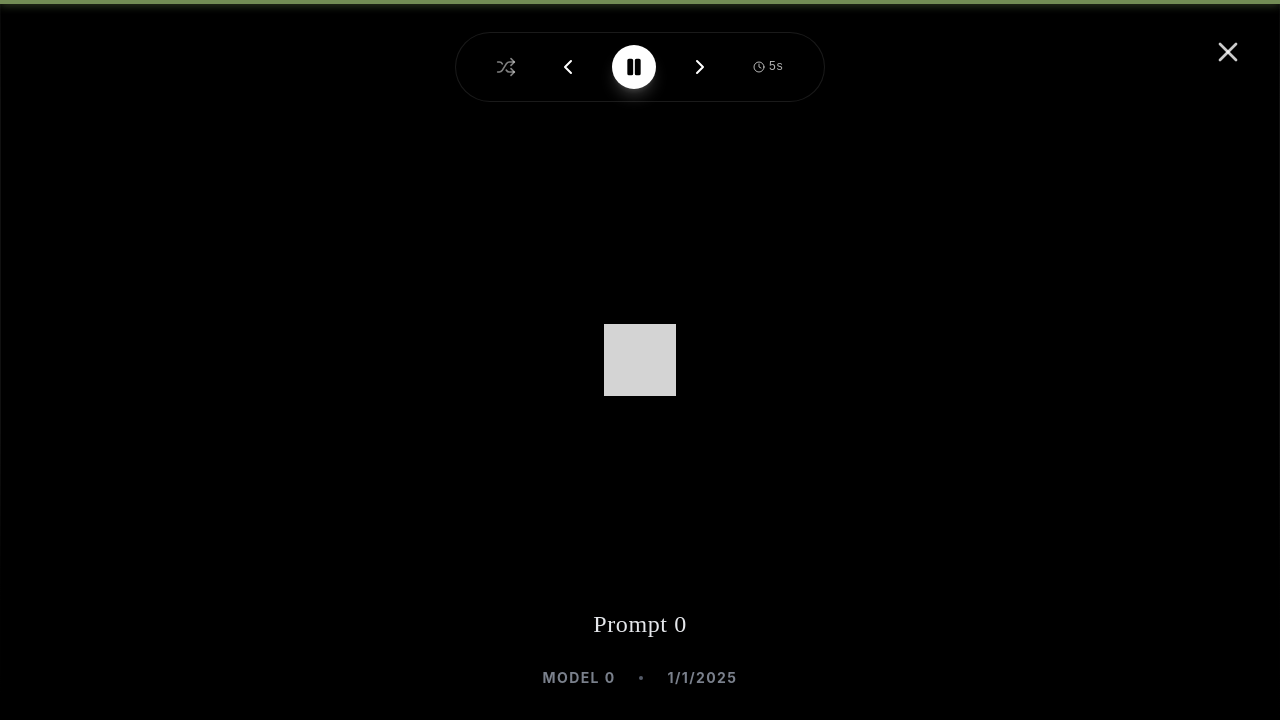
Test case: SlideshowModal › cycles through every duration and keeps control clicks from pausing playback
The width and height of the screenshot is (1280, 720).
What coordinates should you click on to do the following:
click the button titled "Toggle Duration"
I would click on:
 (768, 67)
Its box is top-left (744, 59), bottom-right (792, 75).
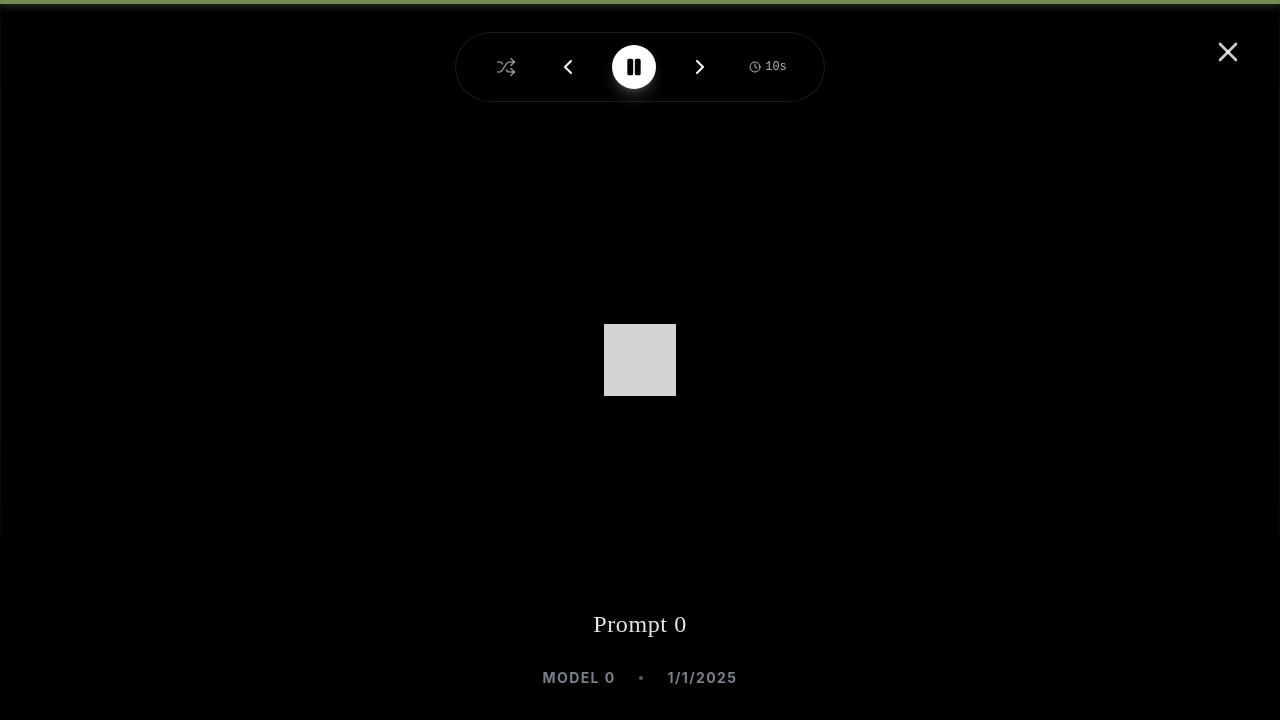
Check: the button titled "Toggle Duration" reads "10s"
What coordinates should you click on to do the following:
click the button titled "Toggle Duration"
I would click on:
 (768, 67)
Its box is top-left (744, 59), bottom-right (792, 75).
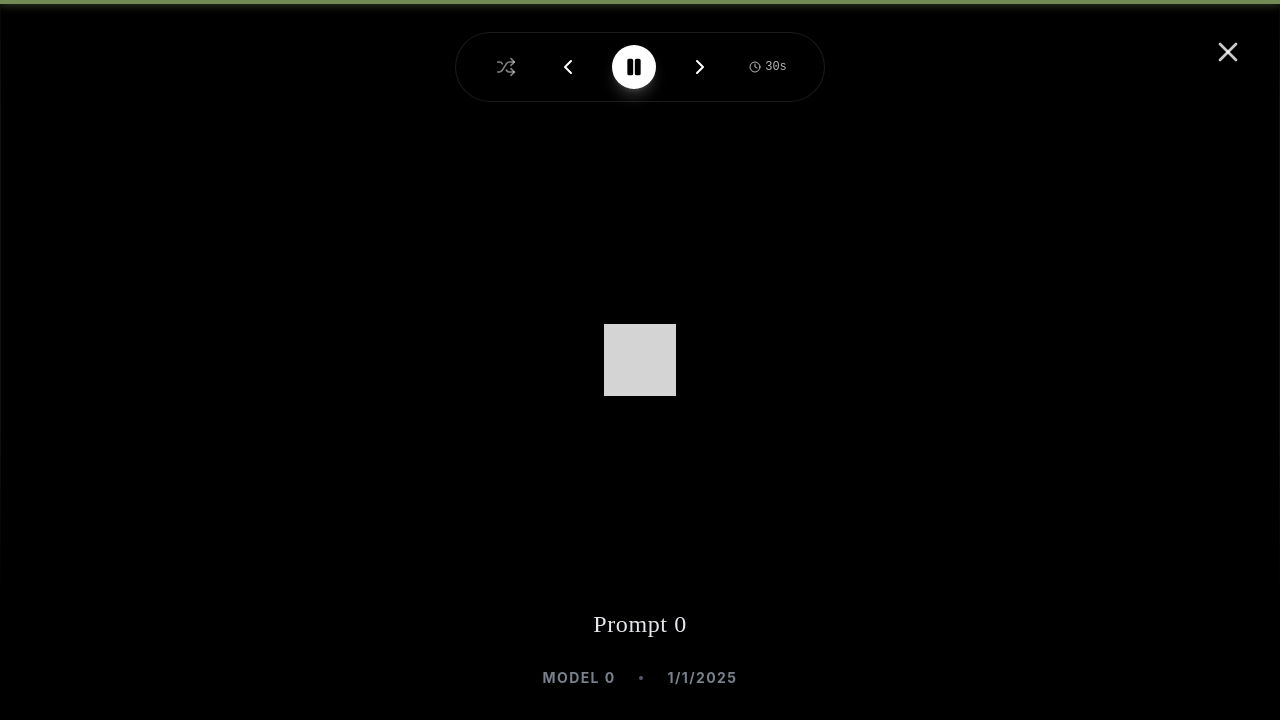
Check: the button titled "Toggle Duration" reads "30s"
What coordinates should you click on to do the following:
click the button titled "Toggle Duration"
I would click on:
 (768, 67)
Its box is top-left (744, 59), bottom-right (792, 75).
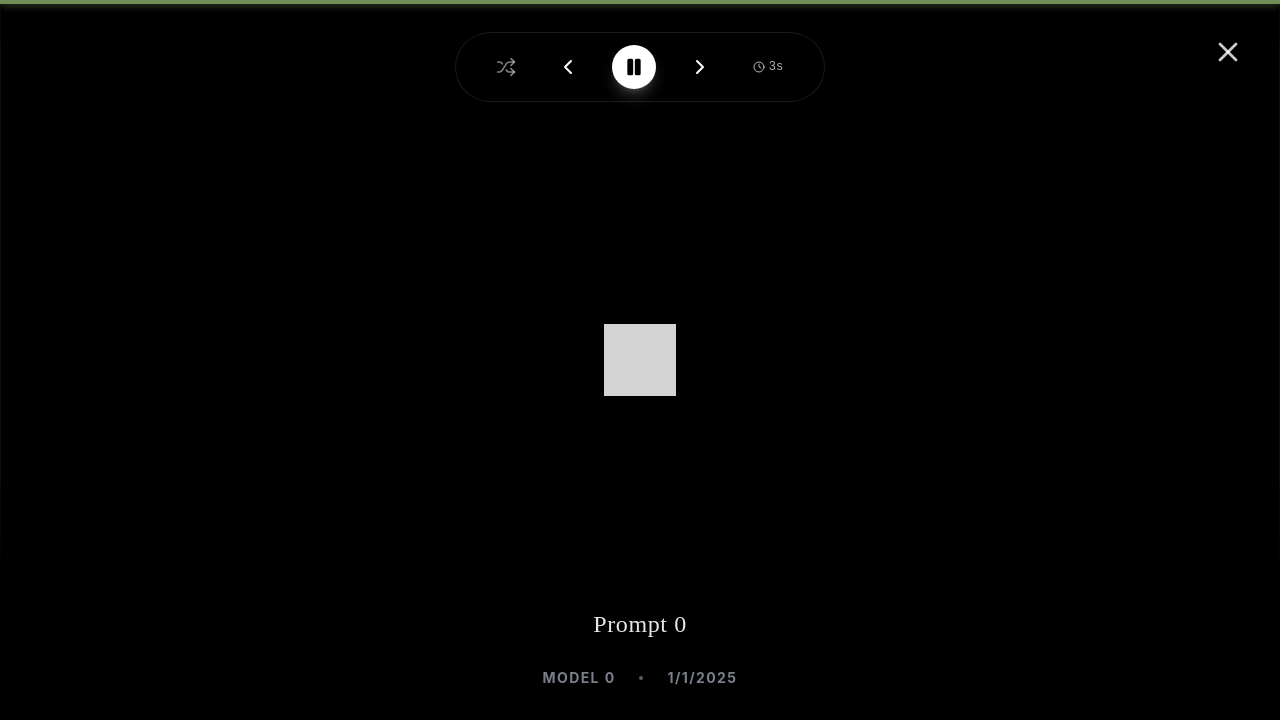
Check: the button titled "Toggle Duration" reads "3s"
What coordinates should you click on to do the following:
click the button titled "Toggle Duration"
I would click on:
 (768, 67)
Its box is top-left (744, 59), bottom-right (792, 75).
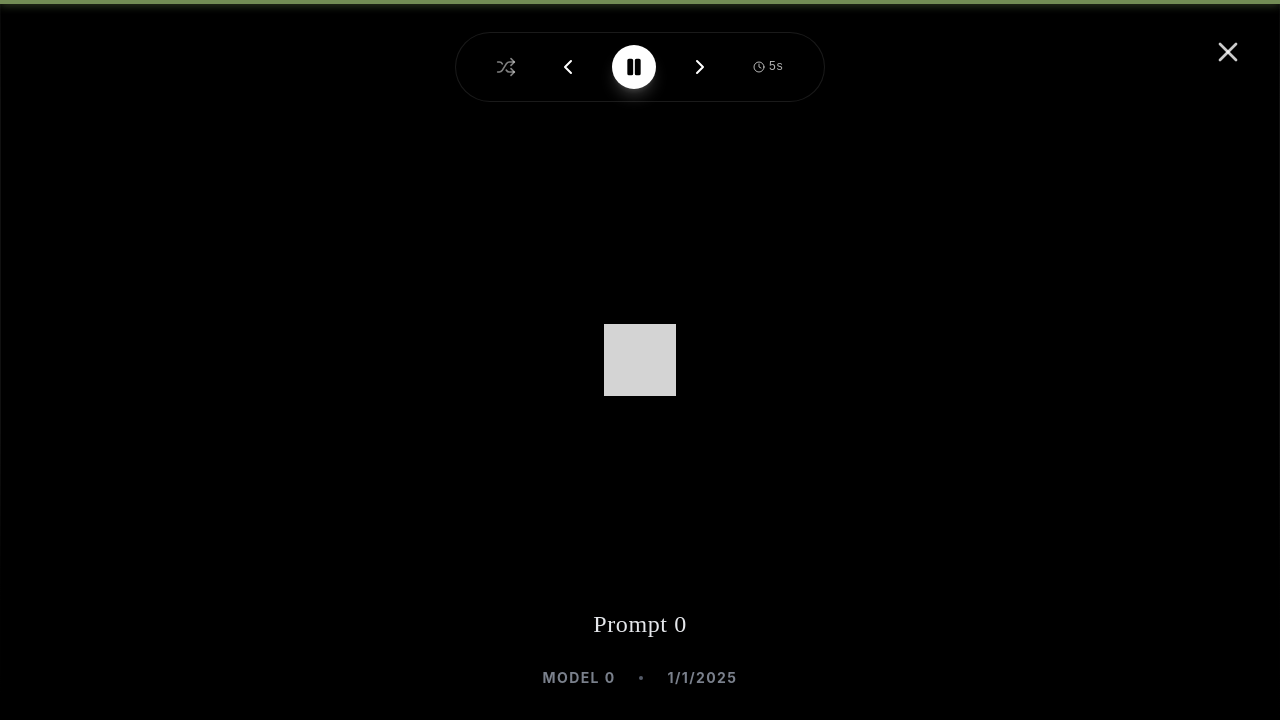
Check: the element with test id "progress-bar" is shown, box top-left (0, 0), bottom-right (1279, 4)
Check: the button titled "Toggle Duration" reads "5s", box top-left (744, 59), bottom-right (792, 75)
What coordinates should you click on to do the following:
click the button named "Pause Slideshow"
I would click on:
 (634, 67)
Its box is top-left (612, 45), bottom-right (656, 89).
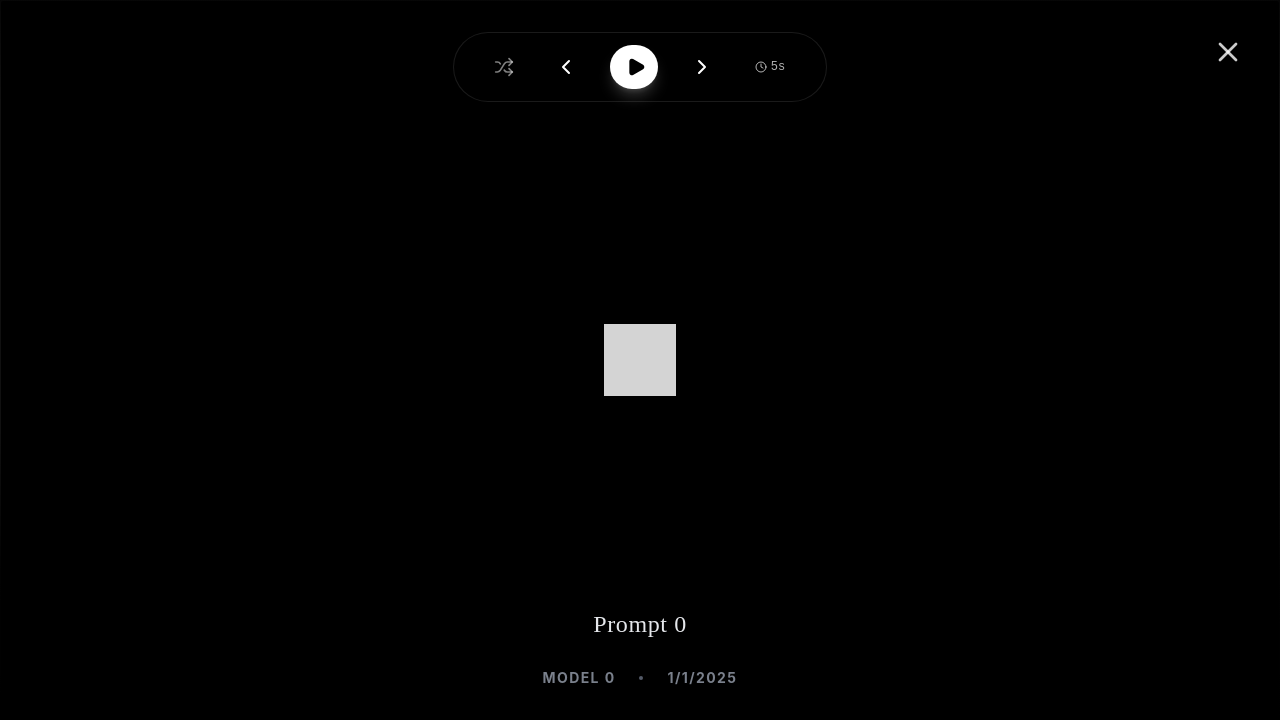
Check: the element with test id "progress-bar" is gone
What coordinates should you click on to do the following:
click the button named "Play Slideshow"
I would click on:
 (634, 67)
Its box is top-left (610, 45), bottom-right (658, 89).
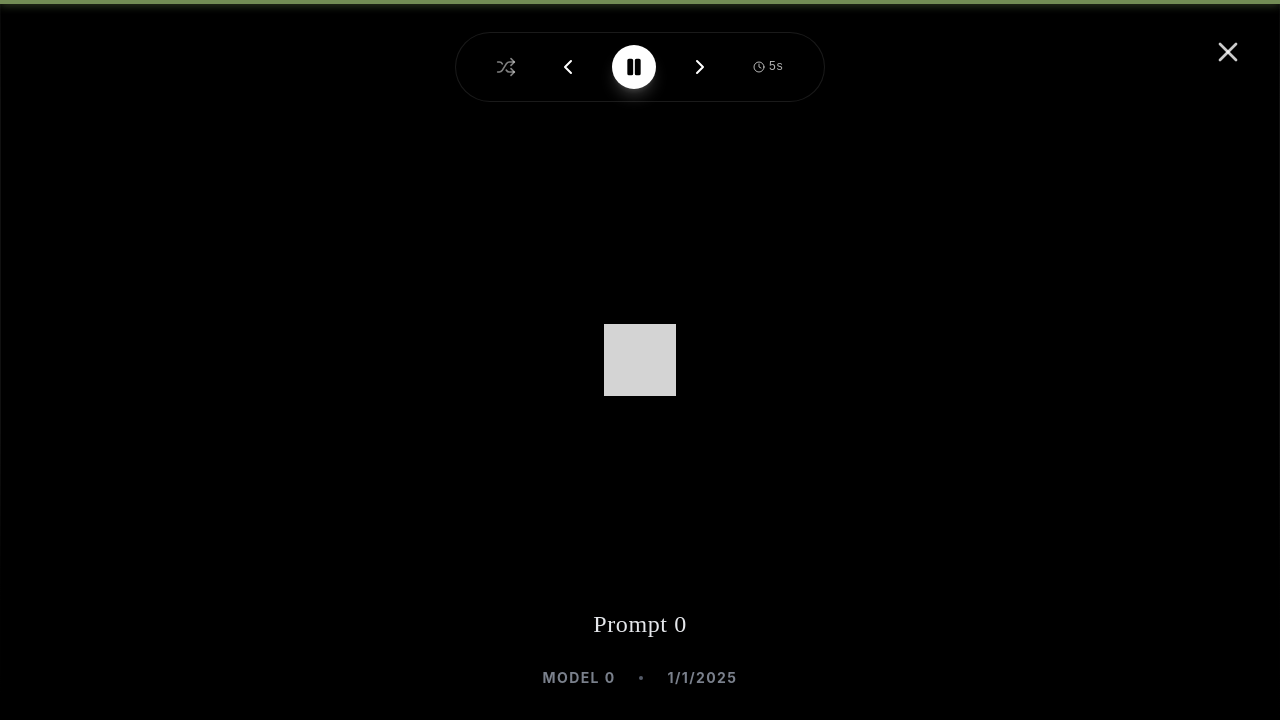
Check: the element with test id "progress-bar" is shown, box top-left (0, 0), bottom-right (1279, 4)
